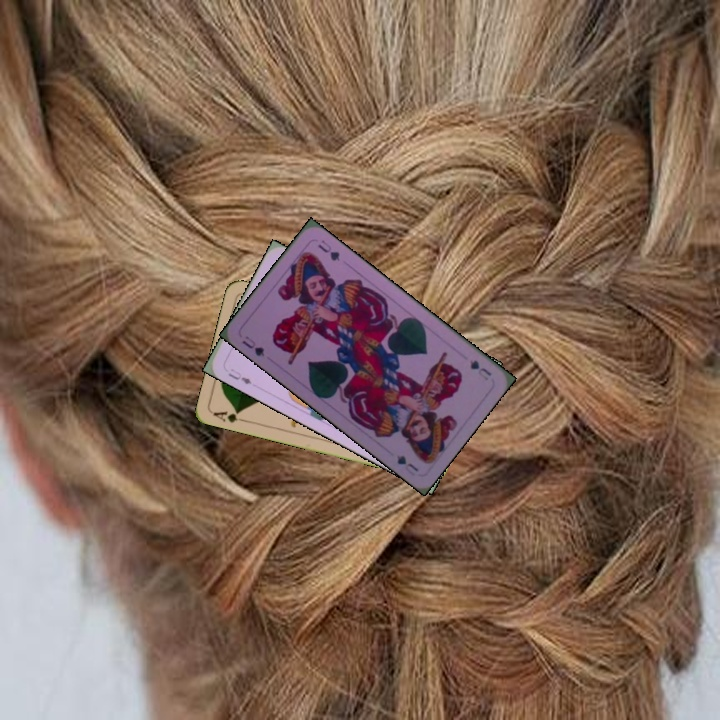EU: (224, 364, 254, 387)
GA: (209, 407, 250, 425)
GU: (238, 332, 267, 359), (465, 356, 494, 383)
